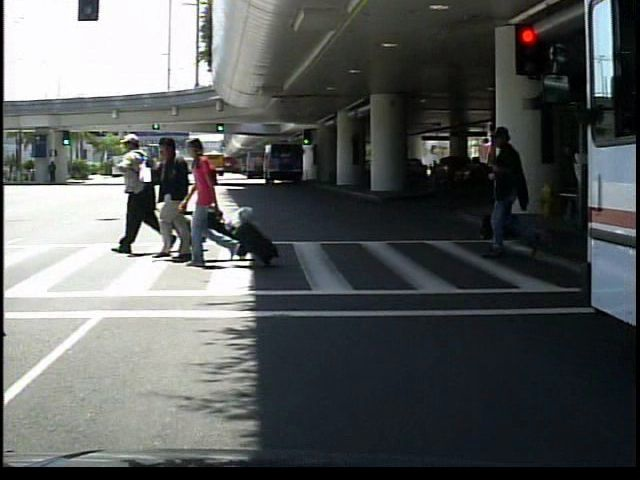person: (474, 117, 546, 260)
